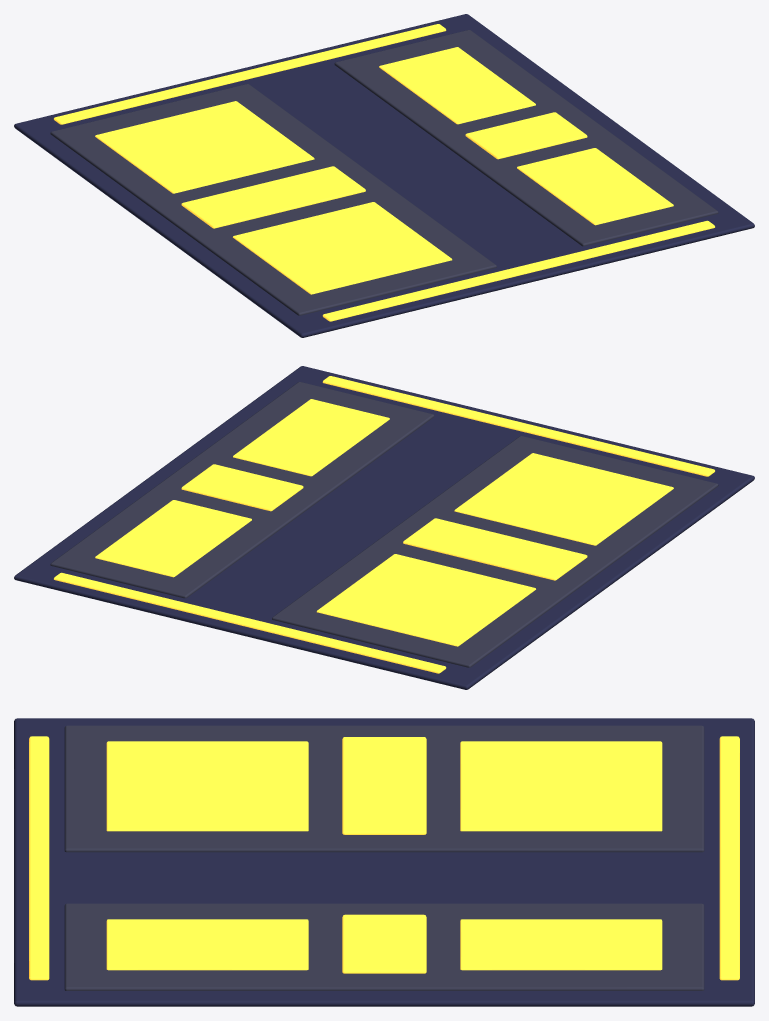
Rendered from int.threshold.l1.glb.
The picture shows the model from 3 angles, top to bottom: view 1: azimuth 30°, elevation 25°; view 2: azimuth 150°, elevation 25°; view 3: azimuth 270°, elevation 25°; orthographic projection. The views are drawn at different scales.
Parts seen in each view (by area): view 1: int.threshold.l1; view 2: int.threshold.l1; view 3: int.threshold.l1.
Part boxes in pixels (<box>): int.threshold.l1: <box>14,14,754,337</box>; int.threshold.l1: <box>14,366,754,689</box>; int.threshold.l1: <box>14,718,754,1006</box>.
Size of the model in its own units: 0.8 by 0.016 by 0.88.
